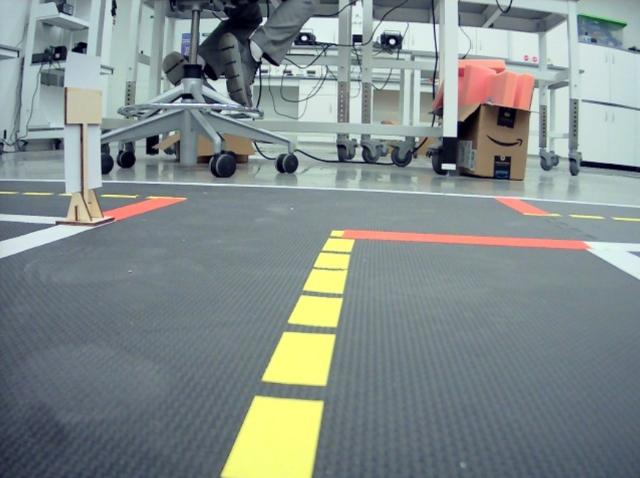redline: (342, 229, 590, 251), (102, 200, 182, 221), (494, 197, 546, 215)
whiteline: (0, 225, 96, 260), (583, 248, 640, 281), (0, 214, 63, 225), (587, 241, 640, 249)
yellowline: (219, 230, 354, 477), (0, 190, 185, 200), (543, 213, 640, 220)
